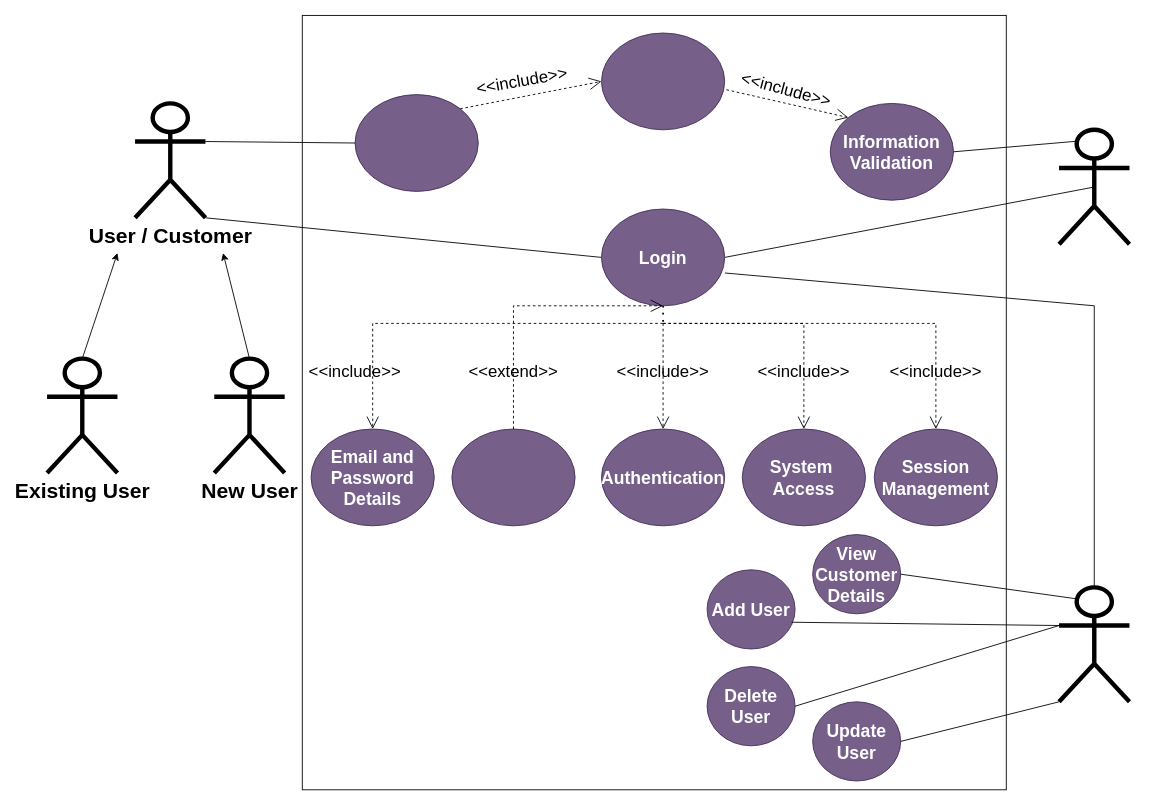
Image size: 1156x805. Some labels were removed from this diagram. Here are the shapes that lost their labels. From the top down, the centre of each, then its label:
At point 663,81: "User Provide Information".
At point 416,142: "Register".
At point 1093,186: "Database".
At point 513,477: "Forgot Password".
At point 1093,644: "Admin".
